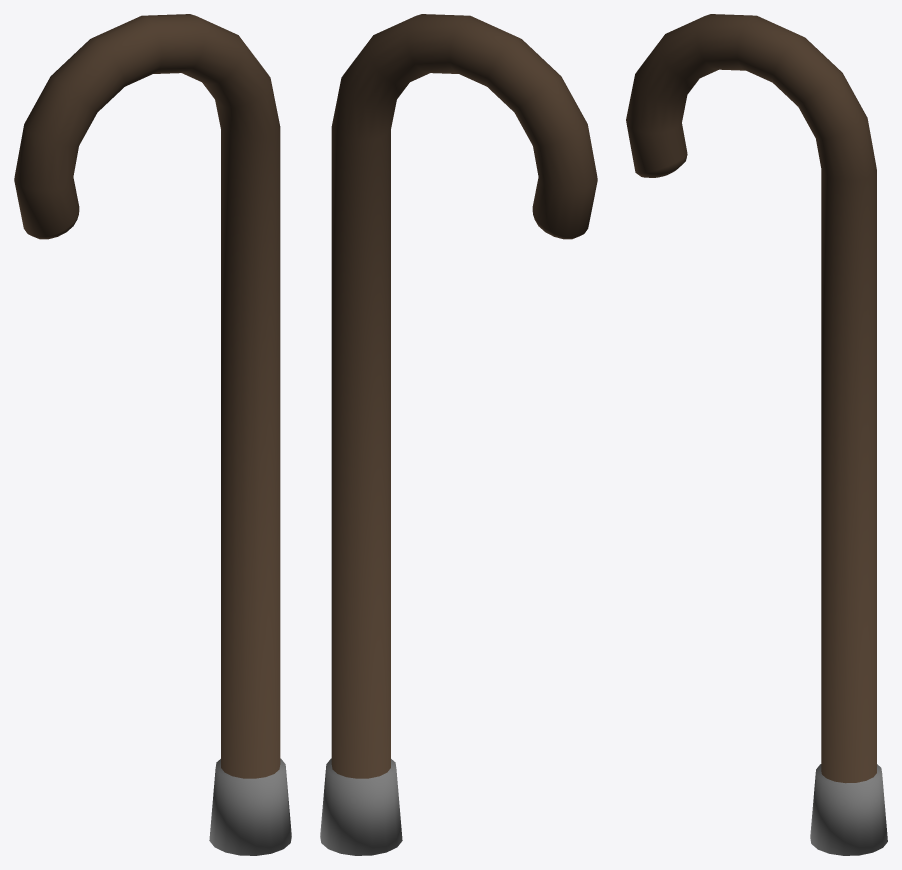
File: walking_cane.glb
The picture shows the model from 3 angles, left to right: view 1: azimuth 30°, elevation 25°; view 2: azimuth 150°, elevation 25°; view 3: azimuth 330°, elevation 25°; orthographic projection. The views are drawn at different scales.
Visible parts, largest first — view 1: Torus.002; view 2: Torus.002; view 3: Torus.002.
Boxes of the visible parts, x1,y1,x2,y2 form: Torus.002: (14, 14, 291, 855); Torus.002: (320, 14, 597, 855); Torus.002: (626, 14, 887, 855).
Bounding box in the file's own units: 0.303 × 0.9115 × 0.0812.
